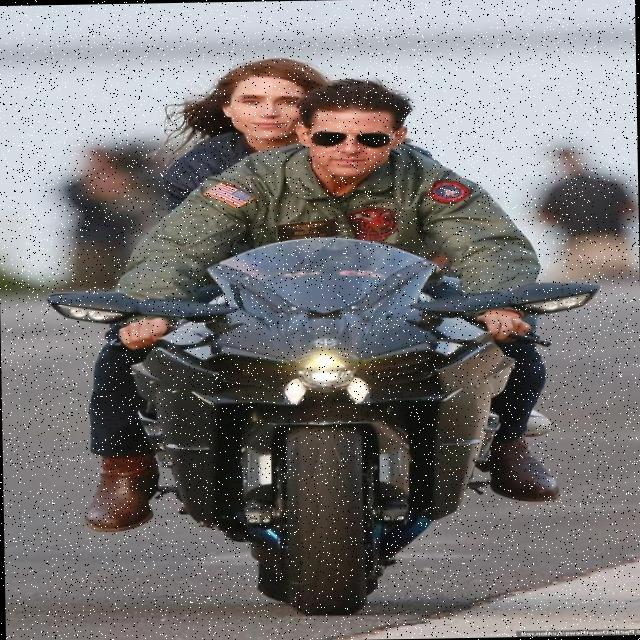No helmet: (298, 80, 411, 186)
